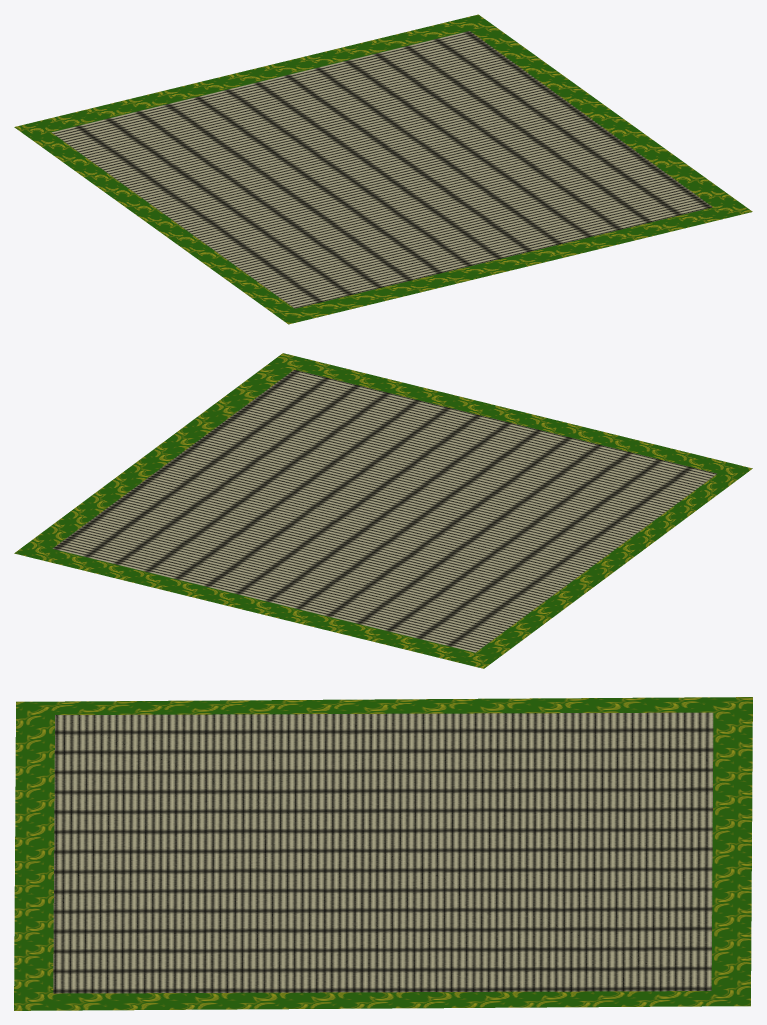
3 views of the same model, one above another, from view 1: azimuth 30°, elevation 25°; view 2: azimuth 150°, elevation 25°; view 3: azimuth 270°, elevation 25° (orthographic). The views are drawn at different scales.
Visible parts, largest first — view 1: 平面; view 2: 平面; view 3: 平面.
Boxes of the visible parts, bbox=[...] form: 平面: bbox=[14, 14, 752, 324]; 平面: bbox=[14, 353, 752, 668]; 平面: bbox=[14, 697, 752, 1010].
Size of the model in its own units: 200 by 0.4895 by 200.
2 materials, 2 textured.
